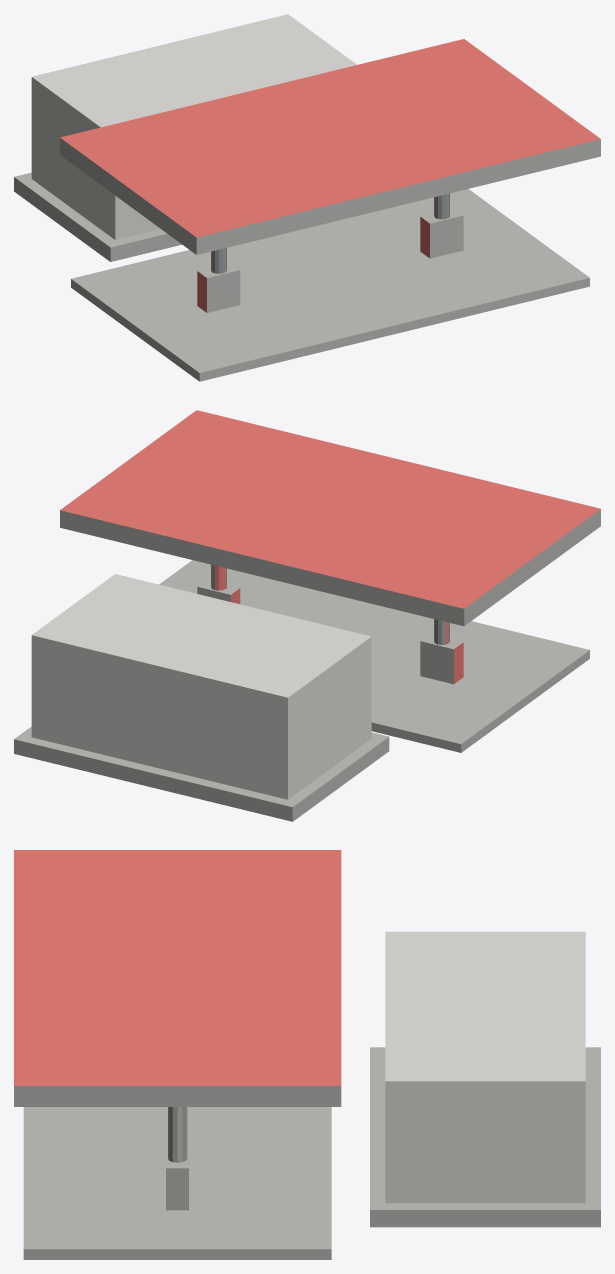
File: gas_station_fuel_canopy.glb
3 renders of one model, top to bottom at view 1: azimuth 30°, elevation 25°; view 2: azimuth 150°, elevation 25°; view 3: azimuth 270°, elevation 25°, orthographic. The views are drawn at different scales.
Parts seen in each view (by area): view 1: gas_station_fuel_canopy; view 2: gas_station_fuel_canopy; view 3: gas_station_fuel_canopy.
Boxes of the visible parts, x1,y1,x2,y2 form: gas_station_fuel_canopy: [14, 14, 600, 381]; gas_station_fuel_canopy: [14, 410, 600, 821]; gas_station_fuel_canopy: [14, 850, 600, 1259].
Size of the model in its own units: 14.5 by 5.1 by 15.25.
